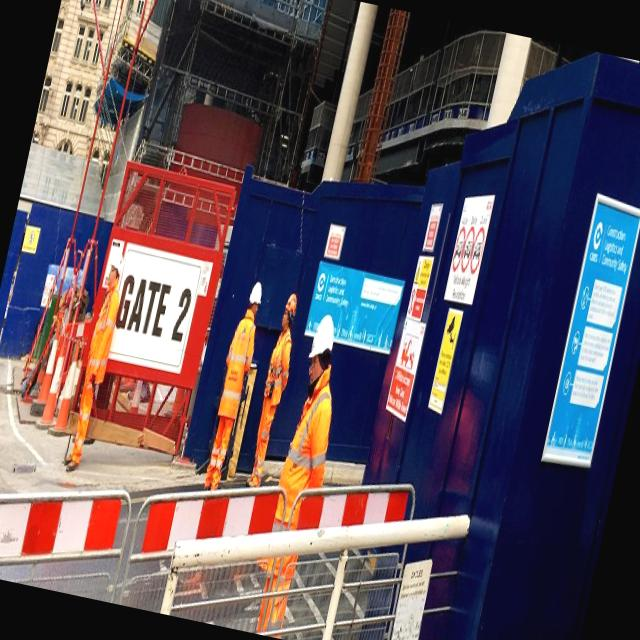helmet: (302, 306, 339, 384), (278, 293, 302, 326)
vest: (268, 392, 334, 530), (80, 285, 126, 392), (255, 328, 298, 425), (218, 314, 256, 414)
